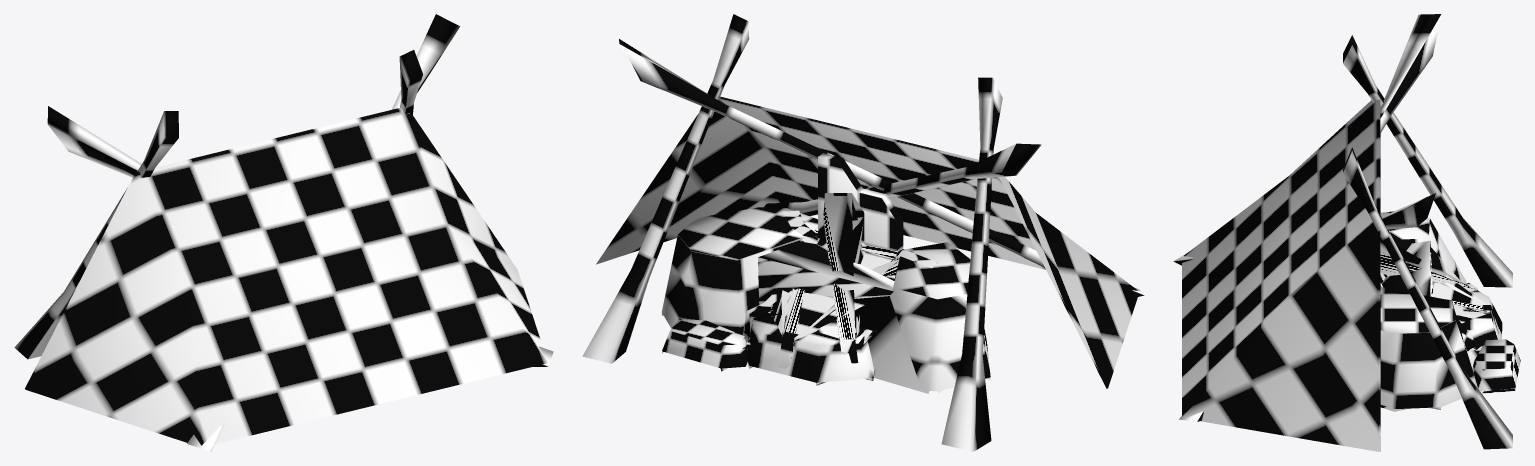
File: ingm6.dae
3 renders of one model, left to right at view 1: azimuth 30°, elevation 25°; view 2: azimuth 150°, elevation 25°; view 3: azimuth 270°, elevation 25°, orthographic. The views are drawn at different scales.
Visible parts, largest first — view 1: base; view 2: base, flag1, armor, pointball; view 3: base, flag1, armor.
Boxes of the visible parts, <box> form: base: <box>14,14,553,451</box>; base: <box>582,14,1144,451</box>; flag1: <box>662,196,990,393</box>; armor: <box>748,230,899,342</box>; pointball: <box>770,288,798,359</box>; base: <box>1173,14,1520,451</box>; flag1: <box>1380,237,1515,411</box>; armor: <box>1432,266,1487,348</box>.
Size of the model in its own units: 2.24 by 1.44 by 1.23.
1 material, 1 textured.
